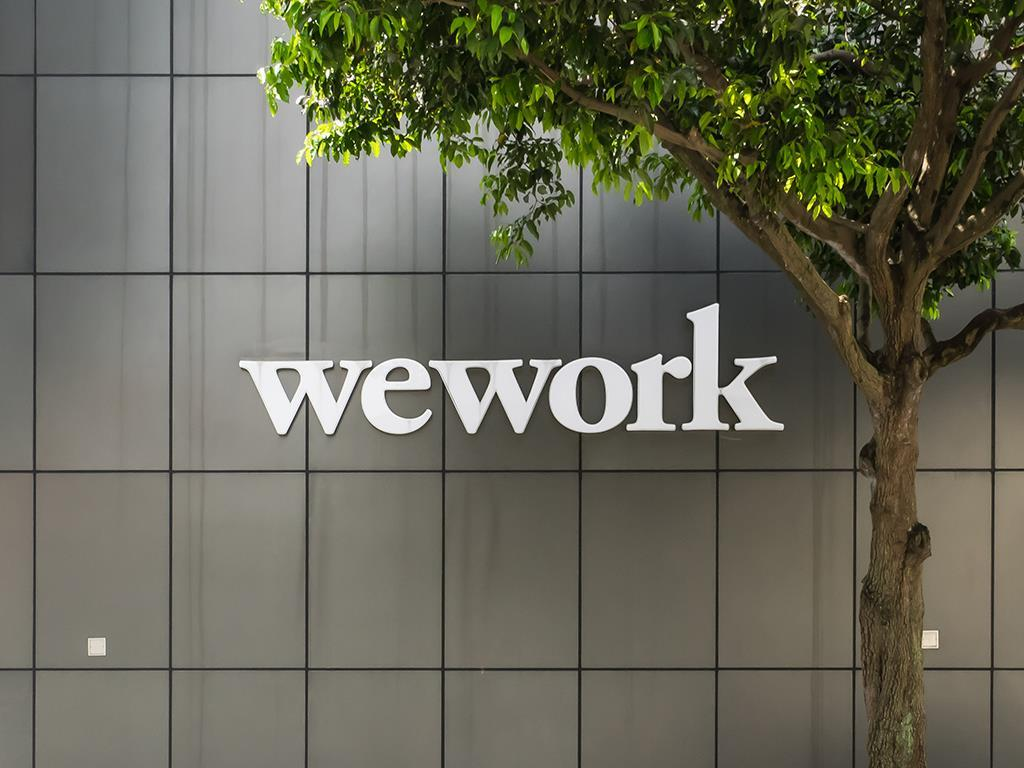wework: (233, 298, 790, 443)
